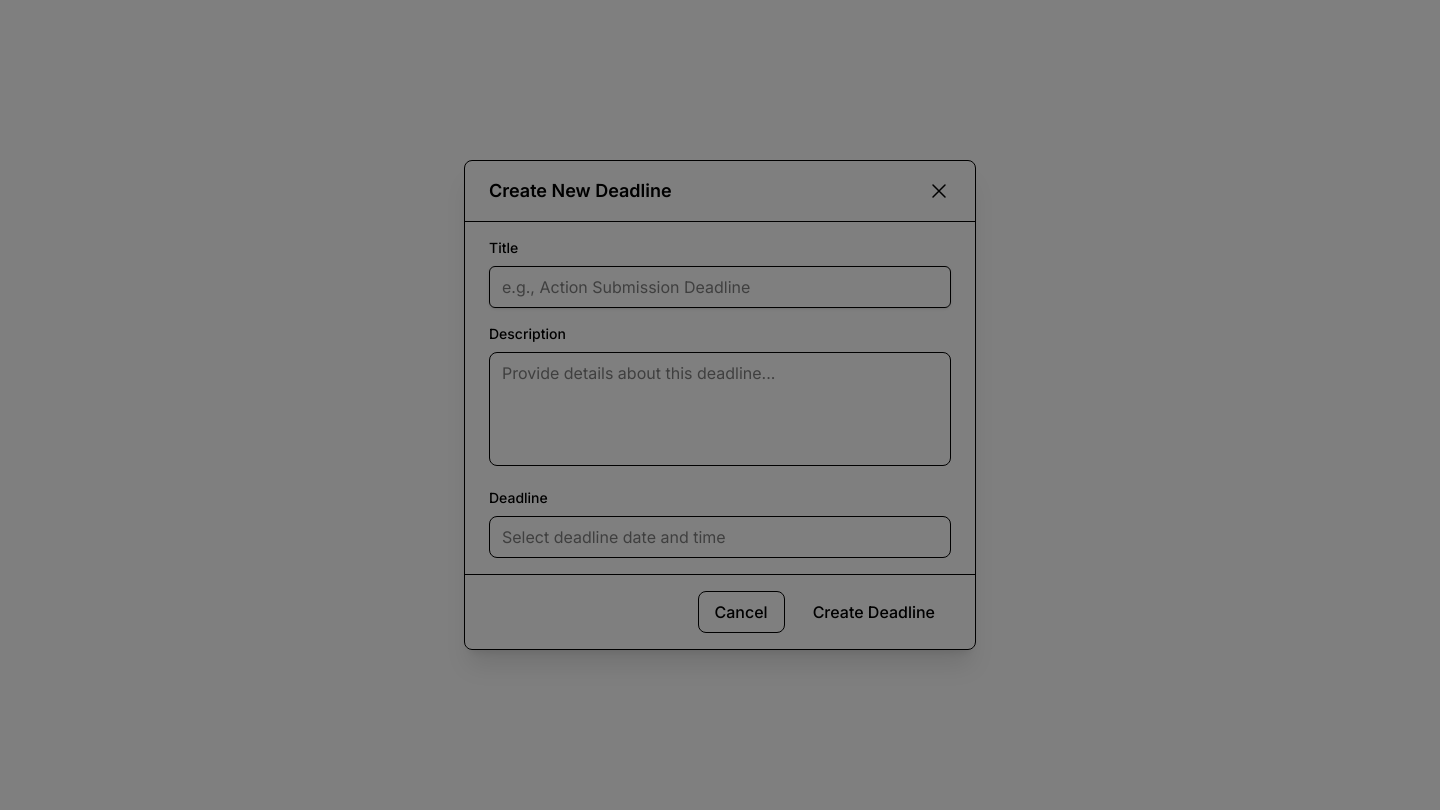
Test: CreateDeadlineModal › Form validation › should show error when description is empty
Type "Test Deadline" into the field labelled "Title".
click(720, 287); type("Test Deadline")  # box [489, 266, 951, 308]
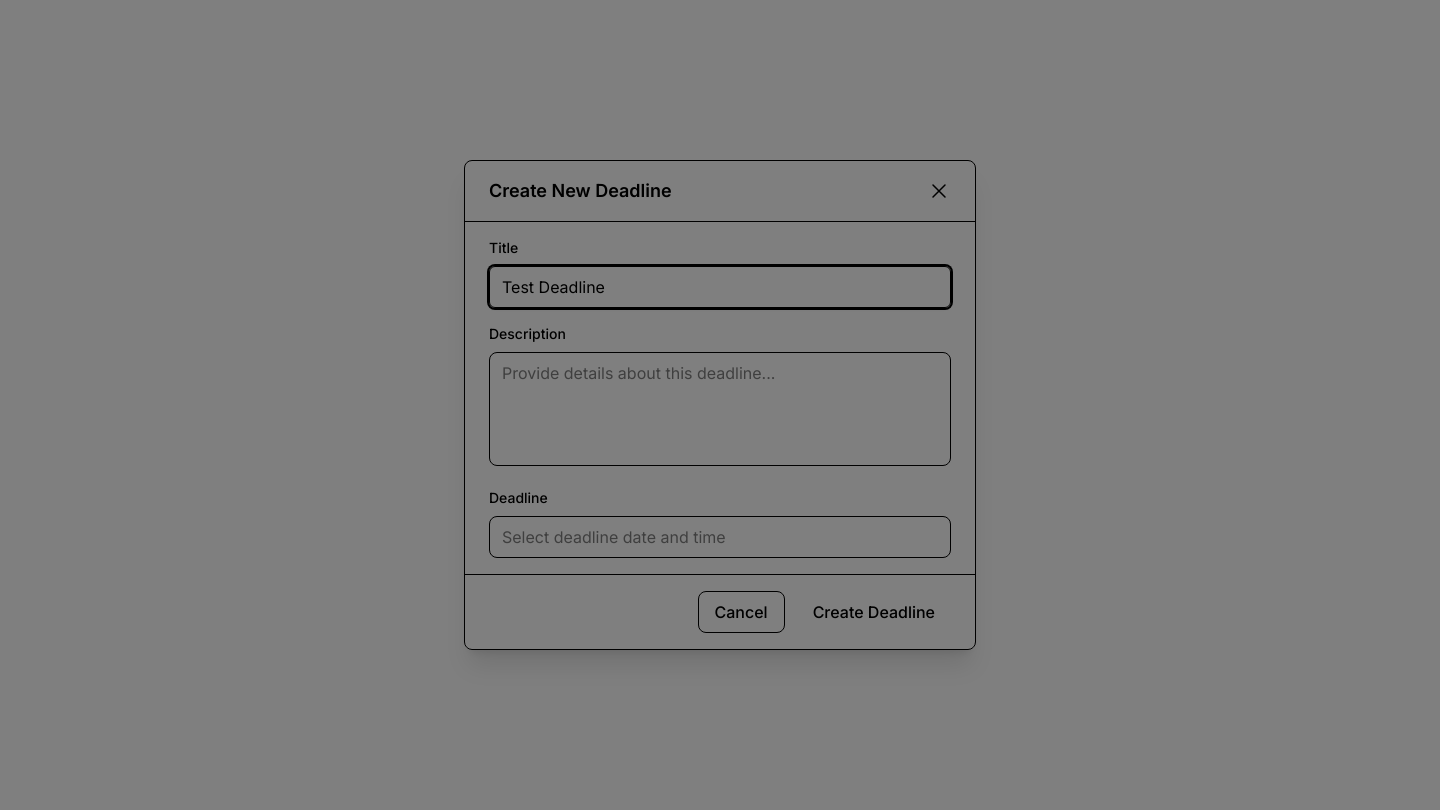
Click the button "Create Deadline".
click(874, 612)  # box [797, 592, 951, 632]
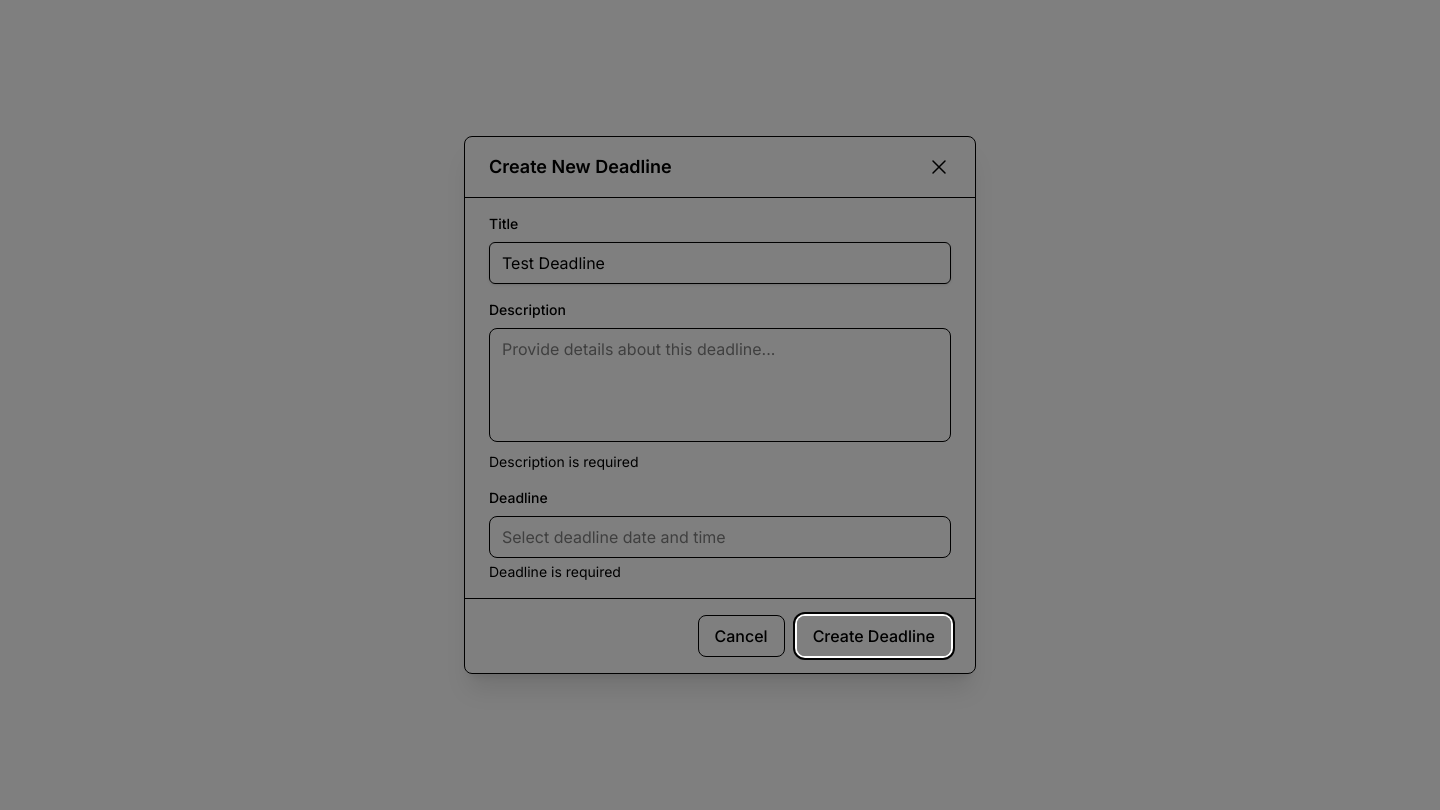
expect the text "Description is required" is shown: met, box [489, 453, 638, 470]
